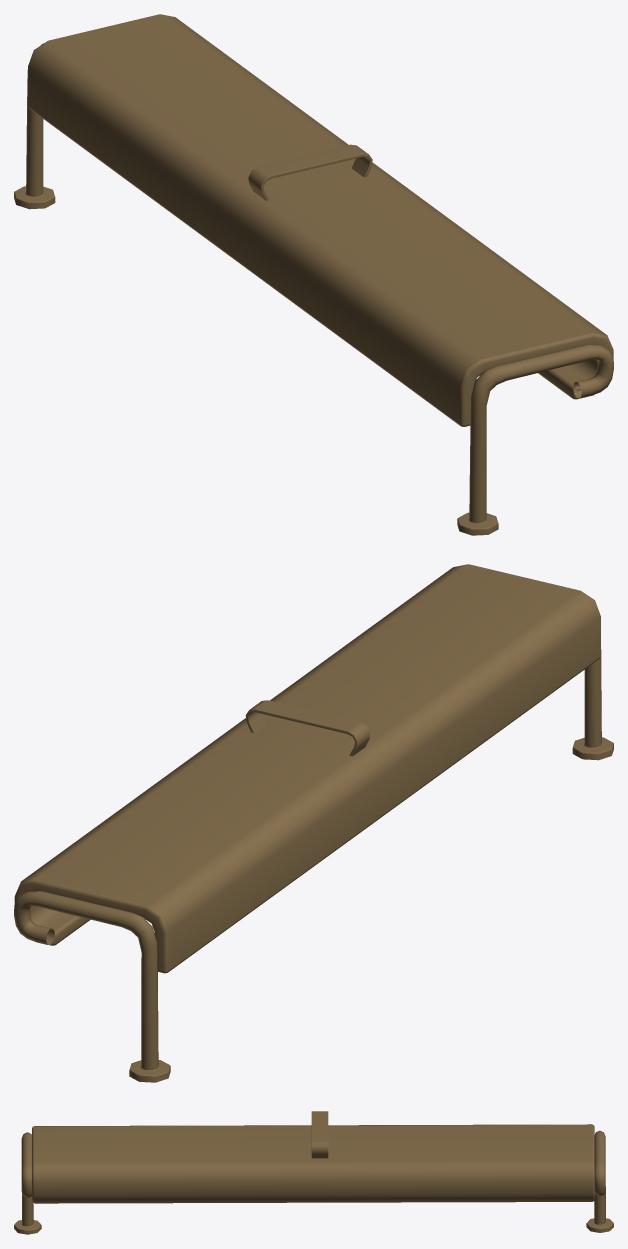
The model's file is Bench.fbx.
3 views of the same model, one above another, from view 1: azimuth 30°, elevation 25°; view 2: azimuth 150°, elevation 25°; view 3: azimuth 270°, elevation 25° (orthographic). The views are drawn at different scales.
Visible parts, largest first — view 1: Bench_GEO; view 2: Bench_GEO; view 3: Bench_GEO.
Boxes of the visible parts, bbox=[...] form: Bench_GEO: bbox=[14, 14, 613, 535]; Bench_GEO: bbox=[14, 564, 613, 1082]; Bench_GEO: bbox=[14, 1111, 613, 1234].
Bounding box in the file's own units: 0.4602 × 0.5165 × 2.32.
